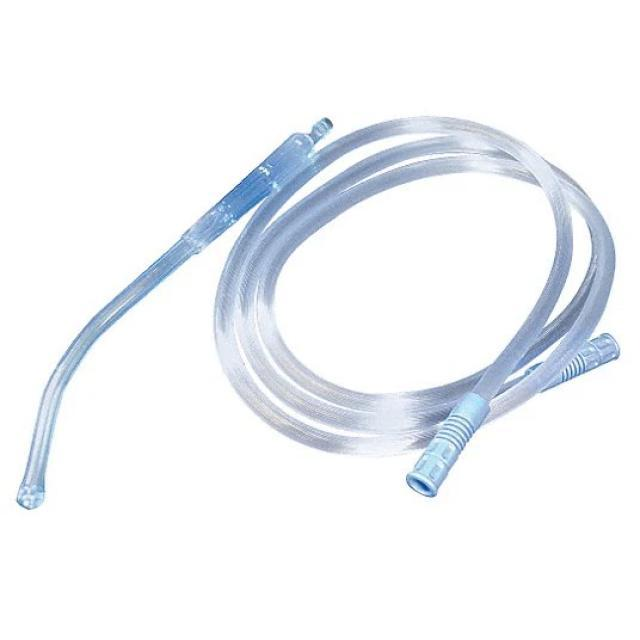Suction Tube Nozzle: (14, 108, 623, 516)
